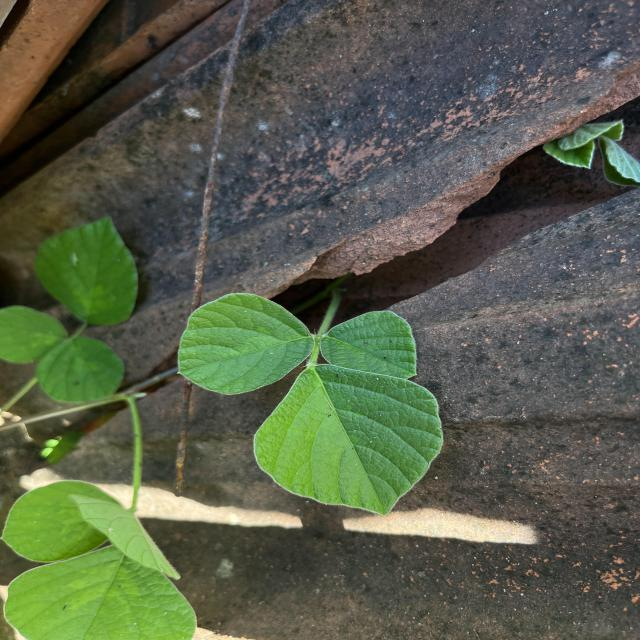Pseudarthria viscida: (174, 291, 448, 517)
